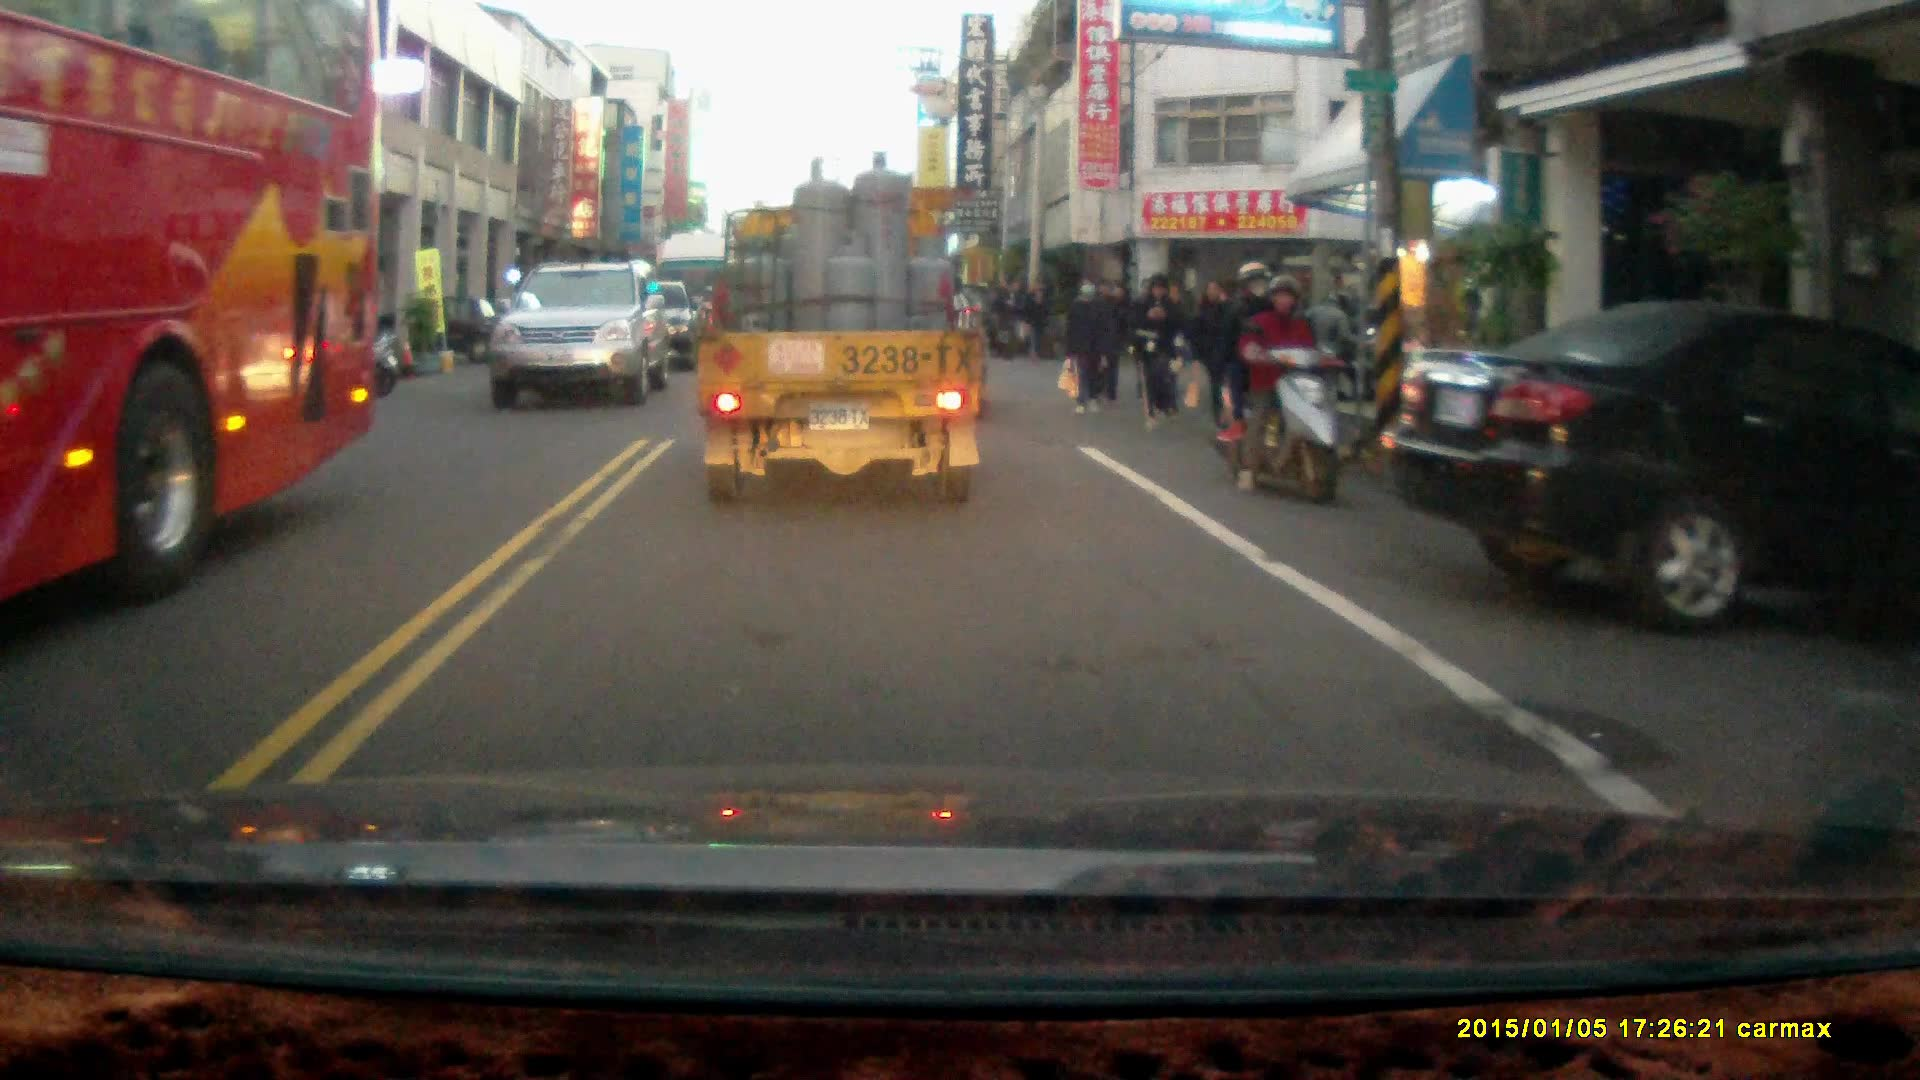pedestrian: (1183, 277, 1241, 433), (1138, 270, 1184, 430), (1063, 274, 1111, 415), (1090, 283, 1130, 406), (1020, 275, 1052, 365), (995, 275, 1026, 364)
rider: (1203, 260, 1337, 502)
vehicle: (1, 7, 381, 612), (1385, 302, 1920, 638), (699, 154, 989, 513), (495, 264, 677, 414)
